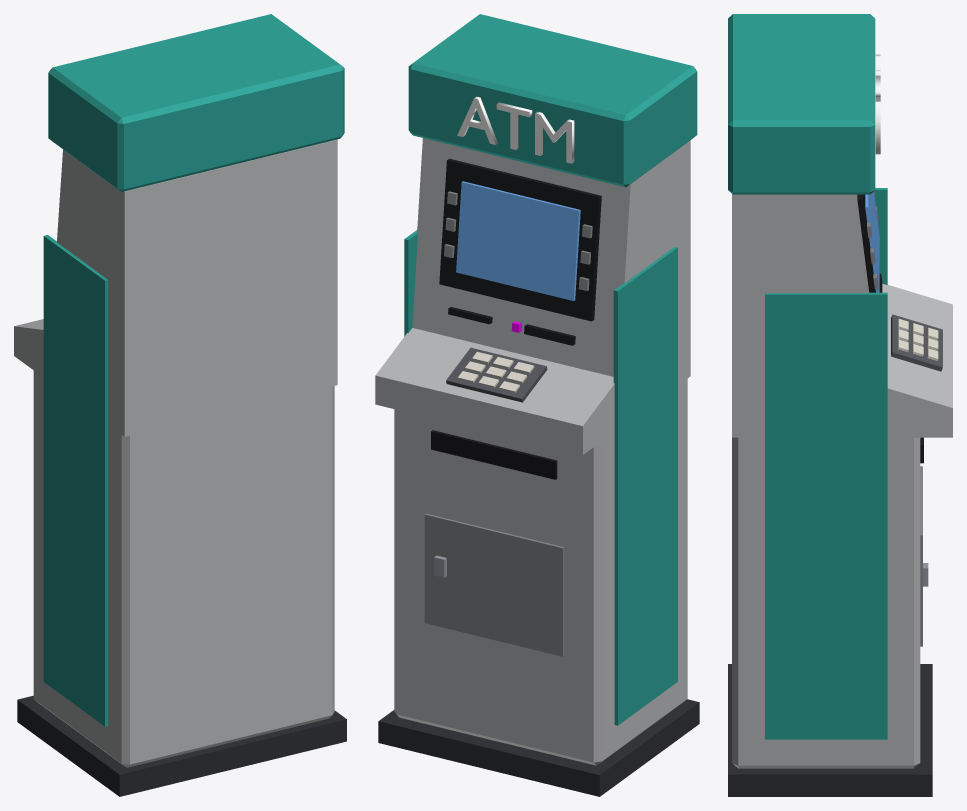
Rendered from prop_atm.glb.
The picture shows the model from 3 angles, left to right: view 1: azimuth 30°, elevation 25°; view 2: azimuth 150°, elevation 25°; view 3: azimuth 270°, elevation 25°; orthographic projection. The views are drawn at different scales.
Parts seen in each view (by area): view 1: prop_atm__mesh; view 2: prop_atm__mesh; view 3: prop_atm__mesh.
Part boxes in pixels (bbox=[...]): prop_atm__mesh: bbox=[14, 14, 346, 796]; prop_atm__mesh: bbox=[375, 14, 699, 796]; prop_atm__mesh: bbox=[728, 14, 952, 796].
Bounding box in the file's own units: 0.64 × 1.82 × 0.55.
1 material, 1 textured.
